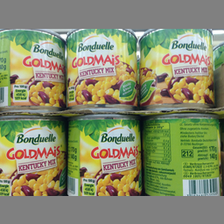corn: (140, 114, 222, 196), (66, 114, 143, 196), (139, 30, 215, 109), (64, 28, 139, 108), (1, 115, 67, 196), (1, 29, 65, 108)
